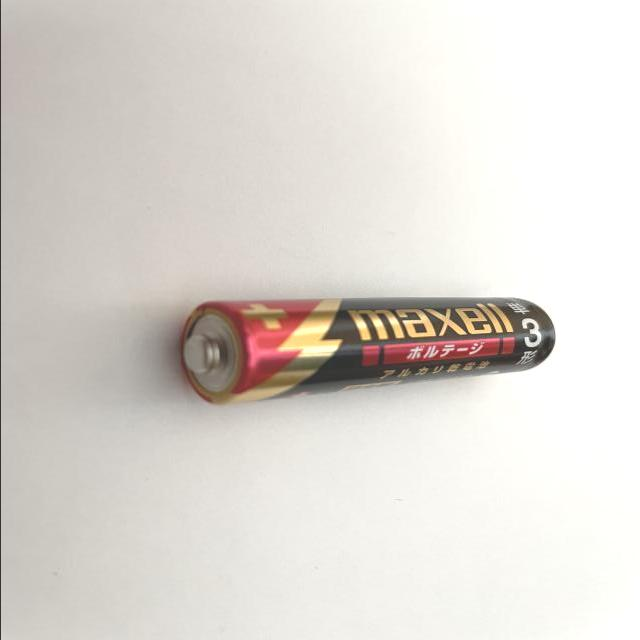AAA: (174, 292, 556, 407)
